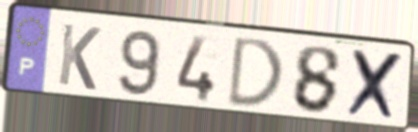4: (174, 32, 219, 104)
8: (292, 44, 344, 116)
9: (114, 28, 164, 99)
D: (224, 34, 286, 109)
K: (55, 20, 103, 93)
X: (344, 47, 407, 124)
